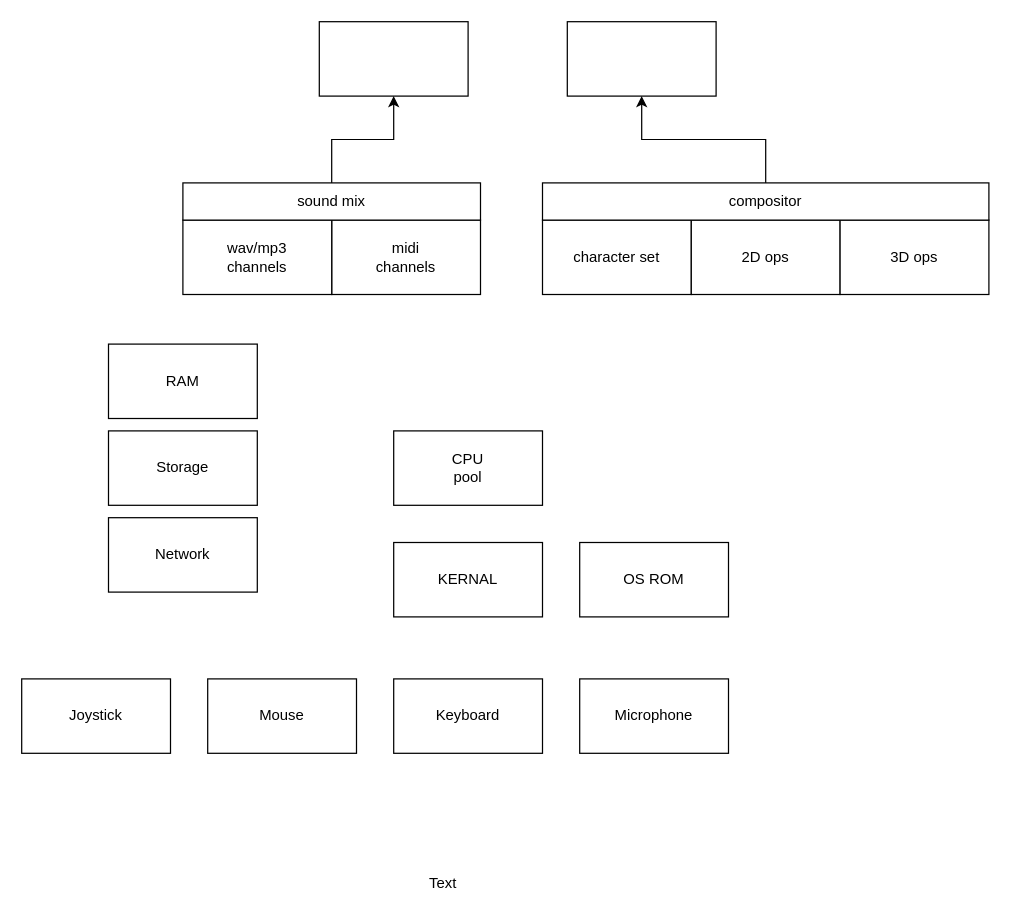
This 1011x924 diagram has some shape labels left out. Here are the shapes that lost their labels. From the top down, the box of each, then its label:
(318, 20, 468, 96): Speaker
(566, 20, 716, 96): Display
